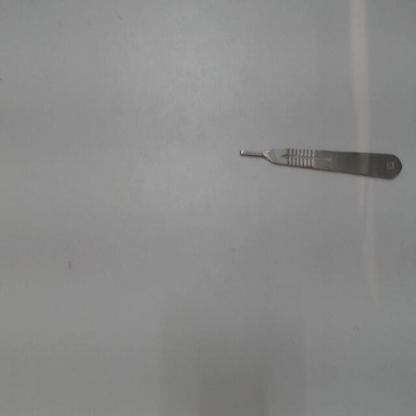No.3 BP Handle: (237, 138, 409, 187)
